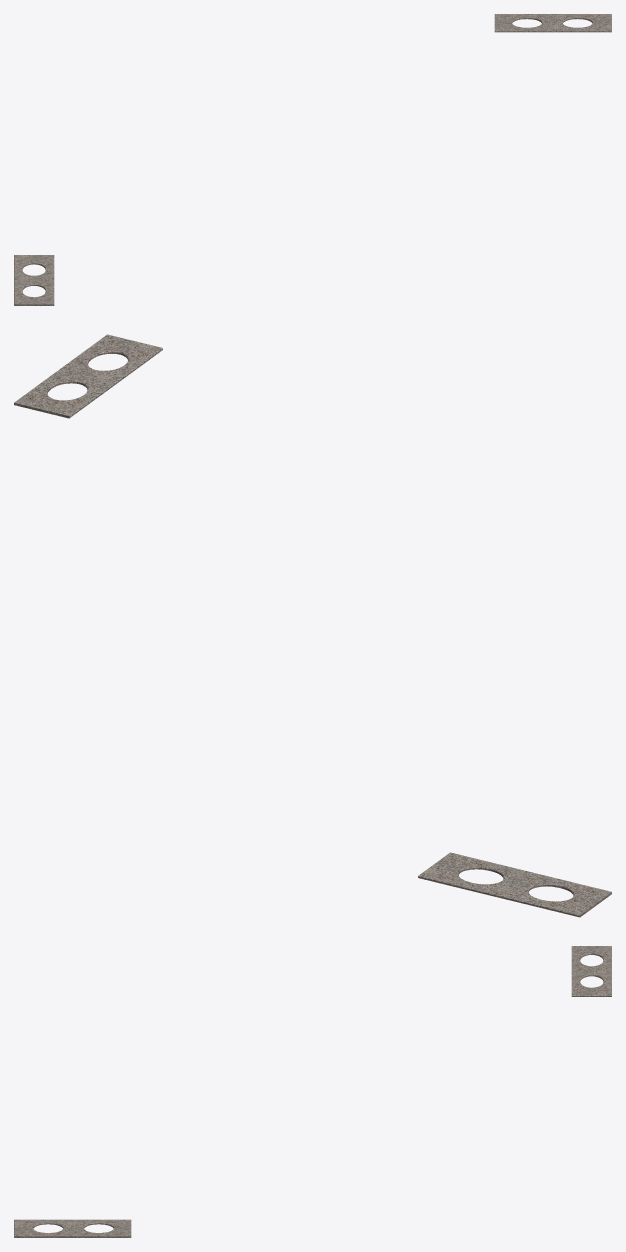
The model's file is Countertops_Granite_Caledonia.glb.
3 renders of one model, top to bottom at view 1: azimuth 90°, elevation 25°; view 2: azimuth 150°, elevation 25°; view 3: azimuth 270°, elevation 25°, orthographic. The views are drawn at different scales.
Visible parts, largest first — view 1: Countertop_granite_caledonia; view 2: Countertop_granite_caledonia; view 3: Countertop_granite_caledonia.
Boxes of the visible parts, x1=… form: Countertop_granite_caledonia: x1=14, y1=14, x2=611, y2=305; Countertop_granite_caledonia: x1=14, y1=334, x2=611, y2=917; Countertop_granite_caledonia: x1=14, y1=946, x2=611, y2=1237.
Bounding box in the file's own units: 17 × 0.04 × 14.8.
Materials: 1 (1 with a texture image).
